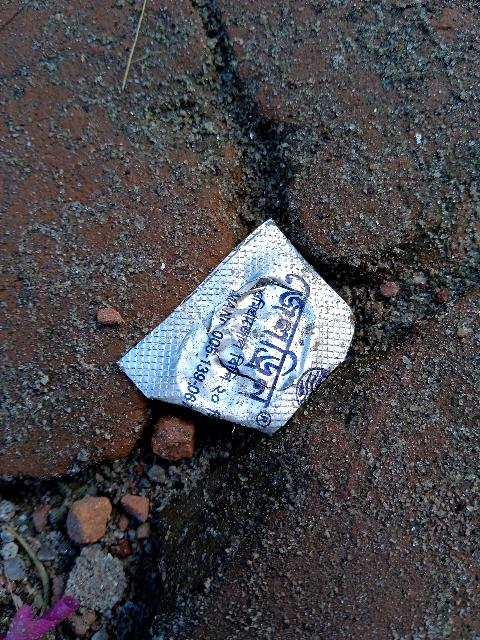medicine: (125, 219, 381, 472)
